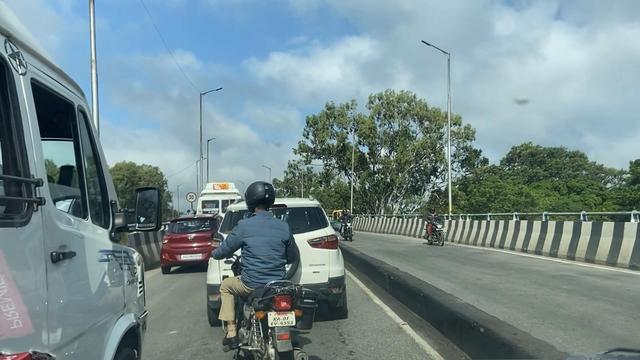LMV: (224, 184, 314, 360)
